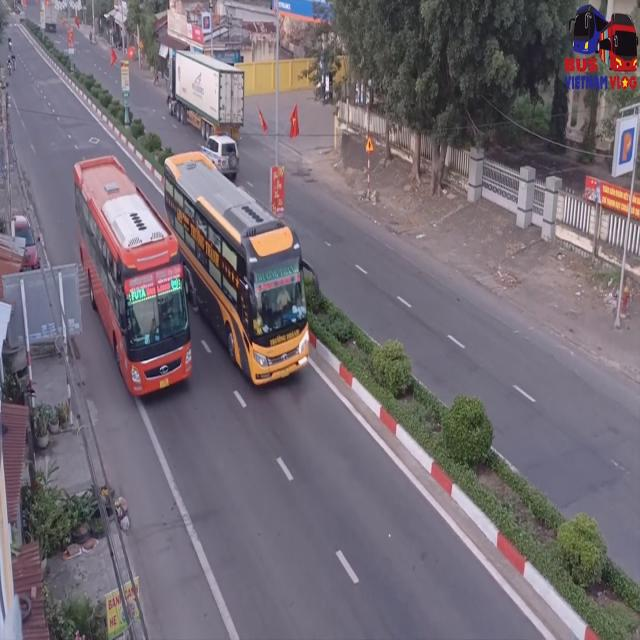bus: (158, 151, 312, 389), (74, 152, 190, 398)
car: (198, 135, 239, 175)
truck: (166, 50, 244, 142)
